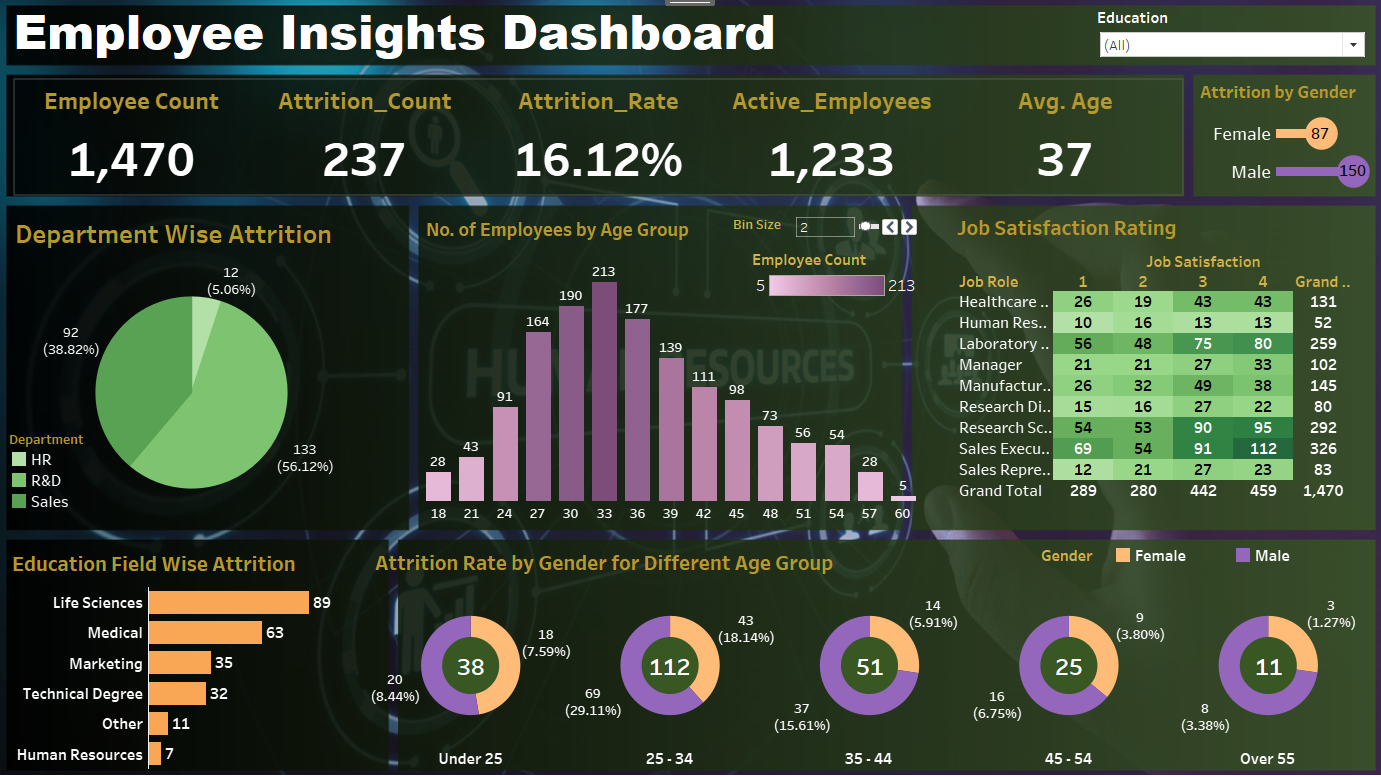

Layout of this report page (visuals, bound fields, positions):
{"tool":"tableau","page":{"name":"HR Analytics Dashboard","canvas":[1000,1000],"units":"permille","ordinal":0},"visuals":[{"type":"image","param":"C:/Users/sharm/Desktop/HR background.png","box":[4.8,10,990.3,980]},{"type":"filter","title":"Department Wise Attrition","param":"[federated.0b6j67h0gjmkuz1bt41a80au92xf].[none:Education:nk]","box":[745.3,25,163.6,66.2]},{"type":"text","box":[89.3,27.5,687.4,68.7]},{"type":"worksheet","title":"Attrition by Gender","mark":"Automatic","rows":["Gender"],"cols":["Calculation_1230045654233391104","Calculation_1230045654233391104"],"box":[805.1,111.1,107.4,142.3]},{"type":"worksheet","title":"KPIs","mark":"Automatic","box":[92.3,116.1,704.3,142.3]},{"type":"worksheet","title":"Job Satisfaction Rating","mark":"Square","rows":["Job Role"],"cols":["Job Satisfaction"],"box":[658.4,277.2,252.9,394.5]},{"type":"worksheet","title":"Department Wise Attrition","mark":"Pie","box":[89.9,280.9,217.9,389.5]},{"type":"worksheet","title":"No. of Employees by Age Group","mark":"Automatic","rows":["Employee Count"],"cols":["Age (bin)"],"box":[338,280.9,300.5,388.3]},{"type":"parameter","param":"[Parameters].[Parameter 1]","box":[518.5,283.8,120.2,48.2]},{"type":"legend","title":"No. of Employees by Age Group","param":"[federated.0b6j67h0gjmkuz1bt41a80au92xf].[sum:Employee Count:qk]","box":[537.3,326.6,101.4,66.9]},{"type":"legend","title":"Department Wise Attrition","param":"[federated.0b6j67h0gjmkuz1bt41a80au92xf].[none:Department:nk]","box":[88.7,553.1,57.3,113.6]},{"type":"worksheet","title":"Attrition Rate by Gender for Different Age Group","mark":"Pie","rows":["Calculation_1073264092499697665","Calculation_1073264092499697665"],"cols":["CF_age band"],"box":[307.2,695.4,602.3,282.2]},{"type":"legend","title":"Attrition Rate by Gender for Different Age Group","param":"[federated.0b6j67h0gjmkuz1bt41a80au92xf].[none:Gender:nk]","box":[711.8,696.1,244.8,38.8]},{"type":"worksheet","title":"Education Field Wise Attrition ","mark":"Automatic","rows":["Education Field"],"cols":["Calculation_1230045654233391104"],"box":[88.1,696.6,202.2,279.7]}]}

Visuals, with their boxes on the dashboard's canvas, which has no fixed pixel size, in thousandths of its width and height (x1, y1, x2, y2). These are canvas units, not pixel positions in the 1381x777 screenshot, which may show the page scaled, cropped or inside an application window:
image: [5, 10, 995, 990]
"Department Wise Attrition" filter: [745, 25, 909, 91]
text: [89, 28, 777, 96]
"Attrition by Gender" worksheet: [805, 111, 912, 253]
"KPIs" worksheet: [92, 116, 797, 258]
"Job Satisfaction Rating" worksheet (Square marks): [658, 277, 911, 672]
"Department Wise Attrition" worksheet (Pie marks): [90, 281, 308, 670]
"No. of Employees by Age Group" worksheet: [338, 281, 638, 669]
parameter: [518, 284, 639, 332]
"No. of Employees by Age Group" legend: [537, 327, 639, 394]
"Department Wise Attrition" legend: [89, 553, 146, 667]
"Attrition Rate by Gender for Different Age Group" worksheet (Pie marks): [307, 695, 910, 978]
"Attrition Rate by Gender for Different Age Group" legend: [712, 696, 957, 735]
"Education Field Wise Attrition " worksheet: [88, 697, 290, 976]
